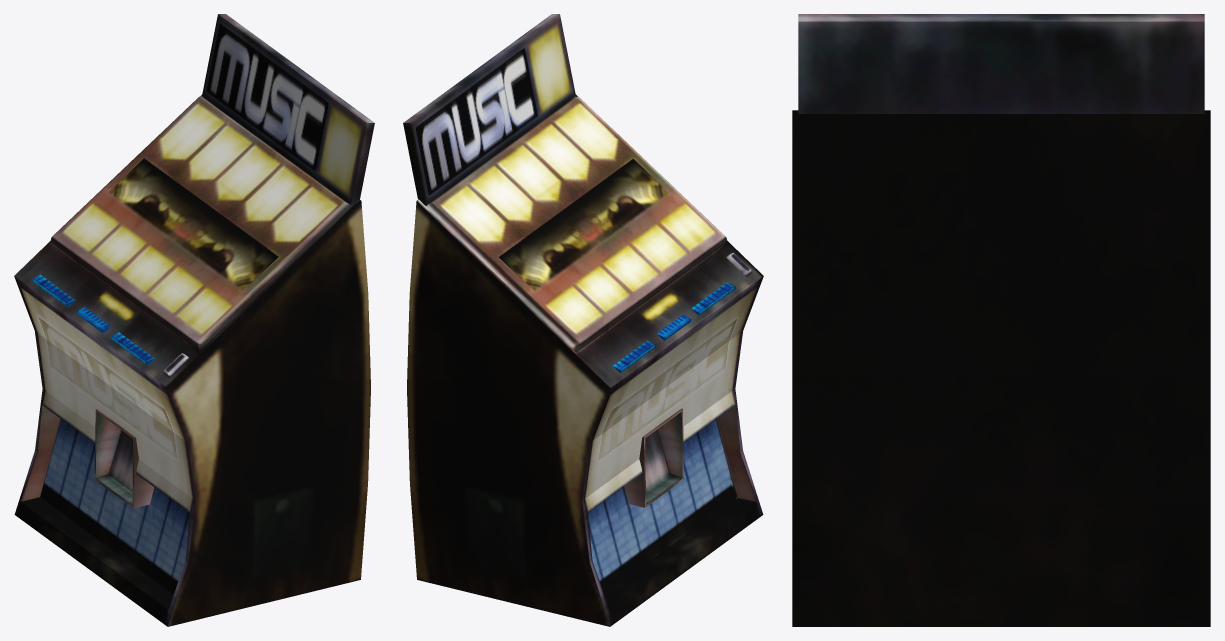
Rendered from Jukebox1.fbx.
The picture shows the model from 3 angles, left to right: view 1: azimuth 30°, elevation 25°; view 2: azimuth 150°, elevation 25°; view 3: azimuth 270°, elevation 25°; orthographic projection. The views are drawn at different scales.
Visible parts, largest first — view 1: Empty_Mesh; view 2: Empty_Mesh; view 3: Empty_Mesh.
Part boxes in pixels (x1=…): Empty_Mesh: x1=14, y1=14, x2=374, y2=626; Empty_Mesh: x1=403, y1=14, x2=763, y2=626; Empty_Mesh: x1=792, y1=14, x2=1210, y2=626.
Size of the model in its own units: 64.56 by 133 by 81.72.
